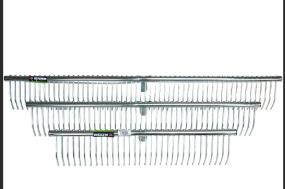RATEAU: (4, 72, 285, 189)
